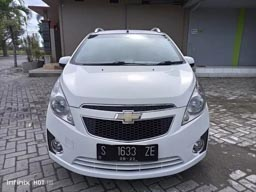plat: (96, 143, 159, 155)
